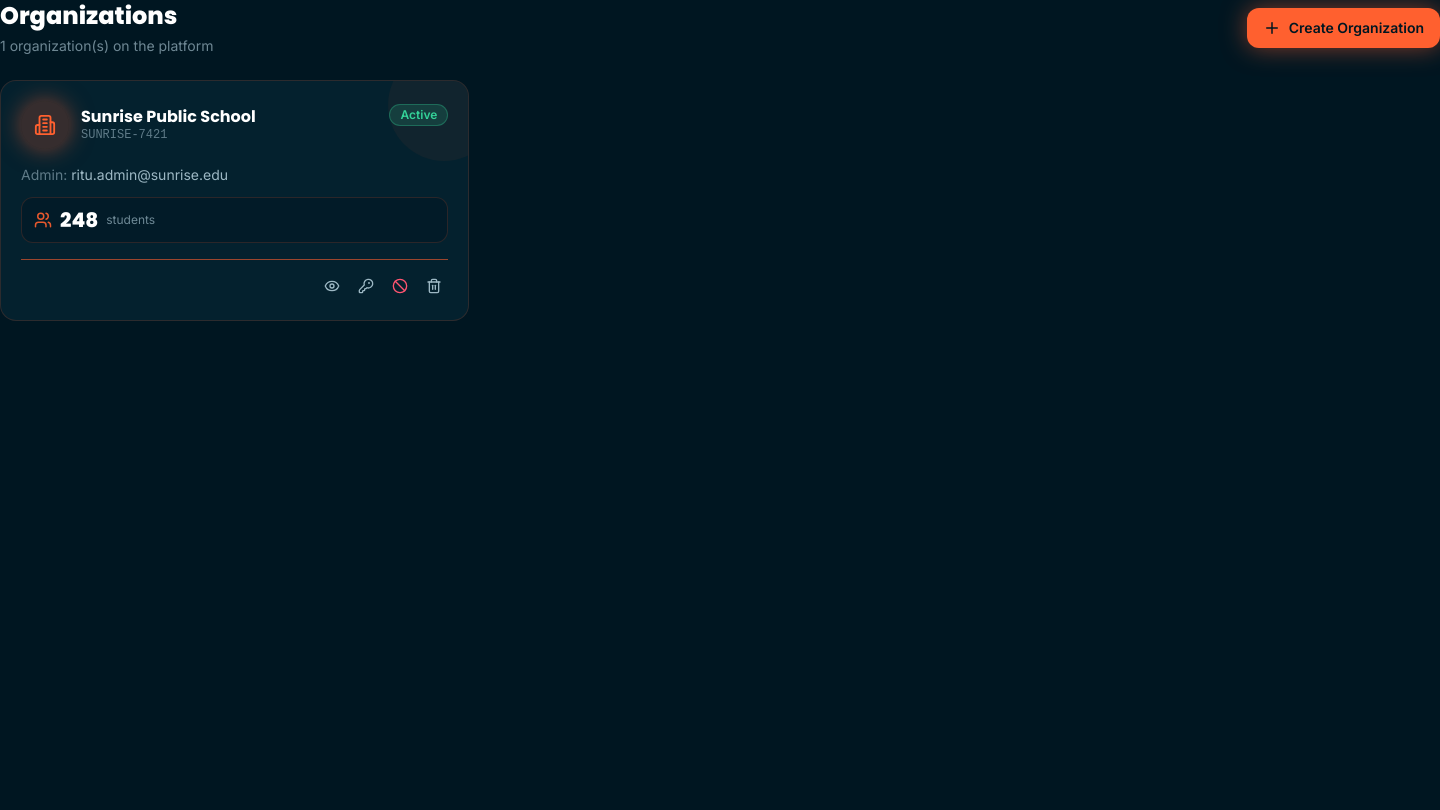
Test: Organizations page › opens the Create Organization modal with admin-credential fields
Step 1. Click the button "Create Organization" → point(1343, 28), box [1247,8,1439,48]
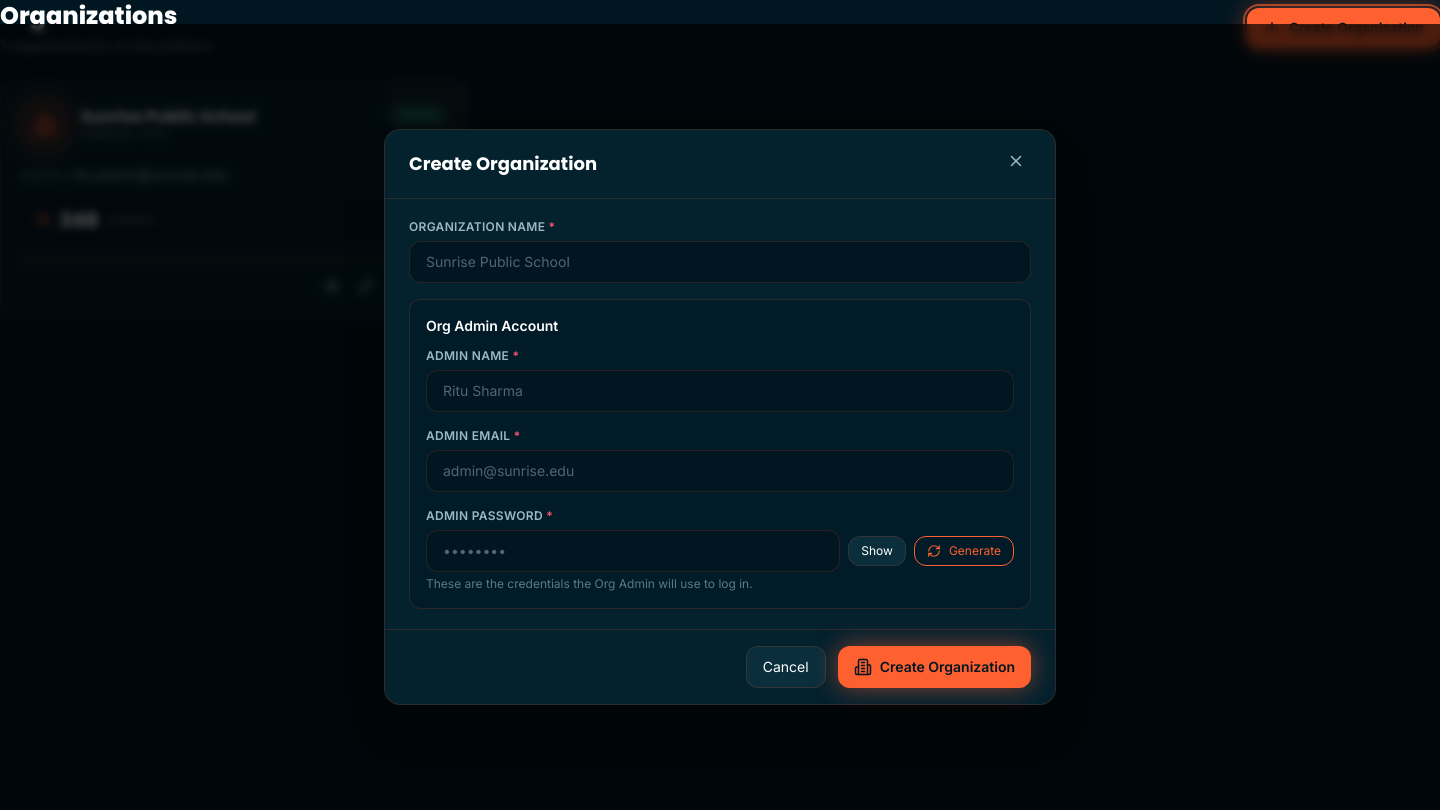
Expected: the text "Org Admin Account" is shown, [426,317,558,334]
Expected: the field labelled "Organization Name *" is shown, [409,241,1031,283]
Expected: the field labelled "Admin Name *" is shown, [426,370,1014,412]
